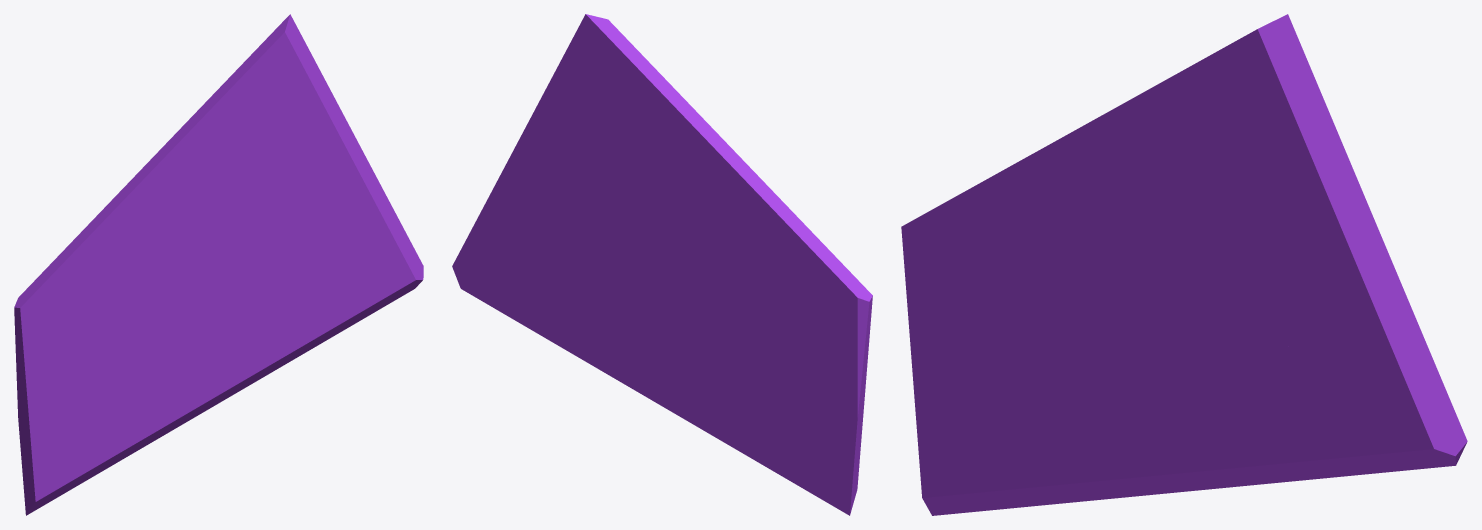
File: Glass_113_2_chunks.fbx
3 views of the same model, side by side, from view 1: azimuth 30°, elevation 25°; view 2: azimuth 150°, elevation 25°; view 3: azimuth 330°, elevation 25° (orthographic). The views are drawn at different scales.
Visible parts, largest first — view 1: Glass_113_2_2, Glass_113_2_0, Glass_113_2_6, Glass_113_2_1, Glass_113_2_5, Glass_113_2_4, Glass_113_2_3; view 2: Glass_113_2_0, Glass_113_2_2, Glass_113_2_6, Glass_113_2_5, Glass_113_2_1, Glass_113_2_4; view 3: Glass_113_2_2, Glass_113_2_6, Glass_113_2_0, Glass_113_2_1, Glass_113_2_5, Glass_113_2_4, Glass_113_2_3.
Boxes of the visible parts, x1,y1,x2,y2 form: Glass_113_2_2: [14, 74, 244, 328]; Glass_113_2_0: [14, 312, 182, 515]; Glass_113_2_6: [224, 14, 356, 215]; Glass_113_2_1: [93, 292, 340, 473]; Glass_113_2_5: [308, 140, 423, 331]; Glass_113_2_4: [210, 206, 318, 319]; Glass_113_2_3: [286, 198, 319, 254]; Glass_113_2_0: [676, 280, 871, 515]; Glass_113_2_2: [648, 61, 872, 314]; Glass_113_2_6: [519, 14, 670, 210]; Glass_113_2_5: [452, 140, 583, 332]; Glass_113_2_1: [536, 296, 777, 473]; Glass_113_2_4: [565, 197, 683, 324]; Glass_113_2_2: [901, 59, 1203, 339]; Glass_113_2_6: [1176, 14, 1377, 276]; Glass_113_2_0: [903, 255, 1120, 515]; Glass_113_2_1: [1000, 330, 1354, 506]; Glass_113_2_5: [1288, 227, 1467, 475]; Glass_113_2_4: [1157, 223, 1302, 438]; Glass_113_2_3: [1259, 276, 1304, 343].
Size of the model in its own units: 756 by 764 by 27.2.
